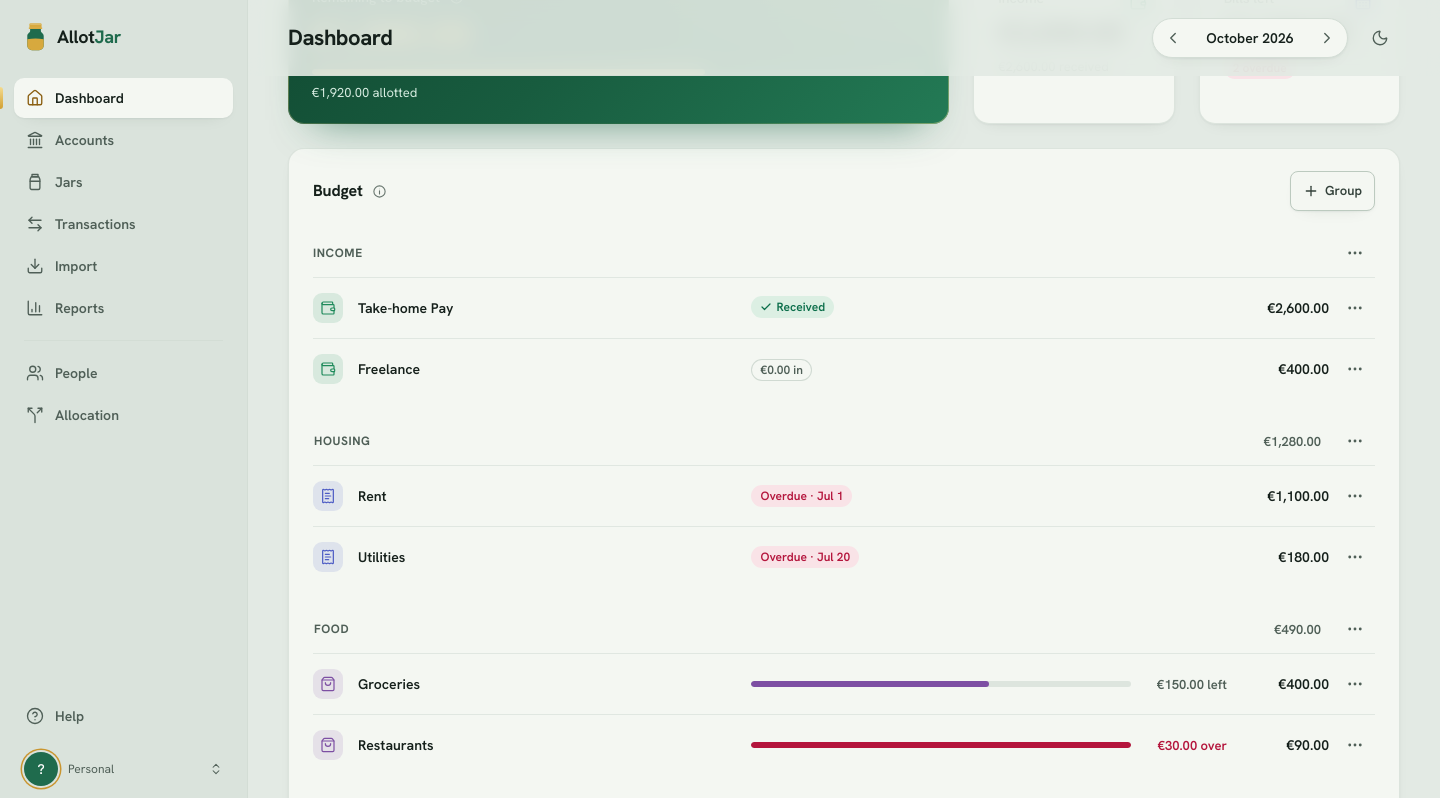
it: DashboardPage — reorder gating, templates & jars shelf › DASH-045: the group menus' Move up / Move down disable at the ends of the expense list
(page scrolled)
Click the button named "Housing group: more actions" at (1355, 441), box [1335,421,1375,461]
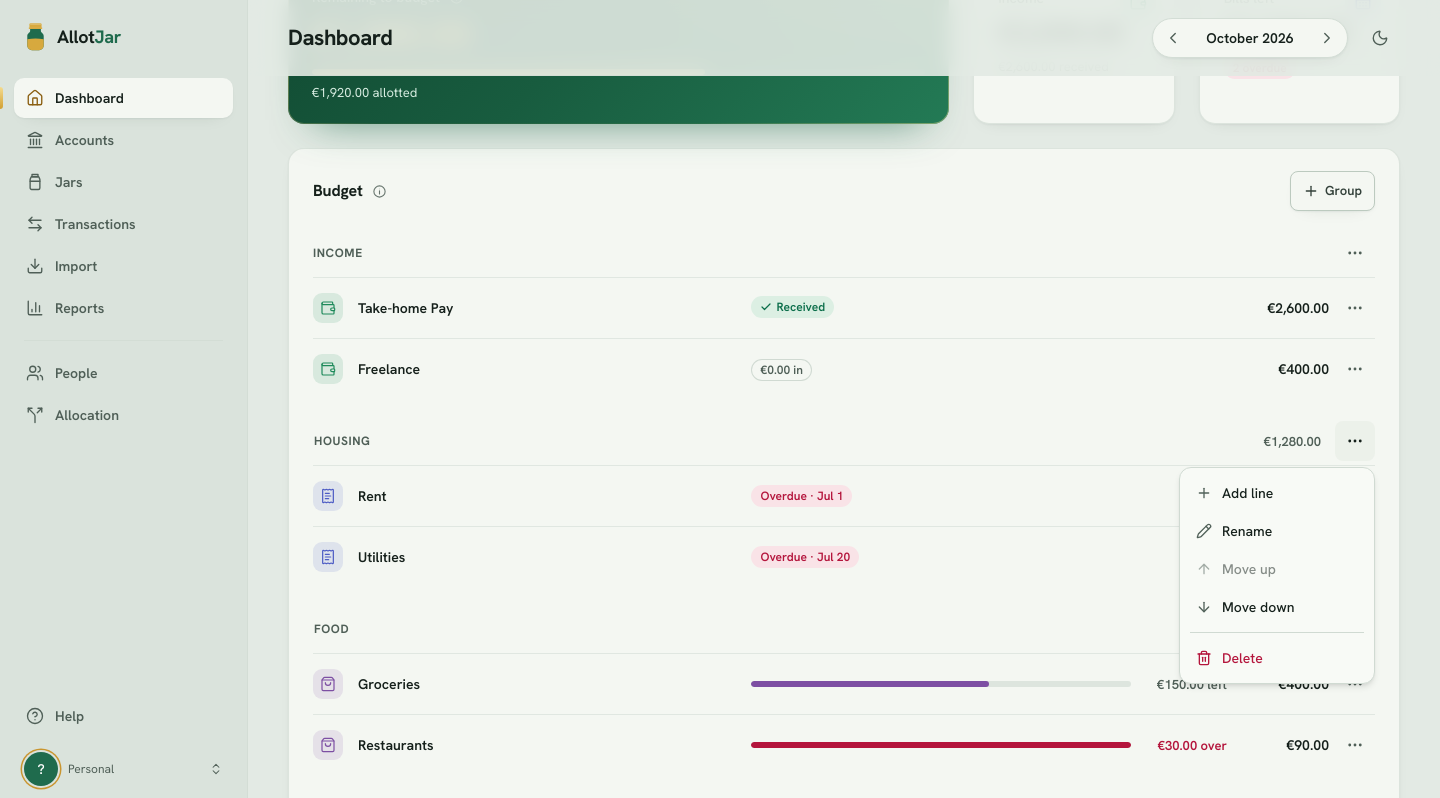
Expected: the menu is shown, [1179,467,1375,684]
Press Escape
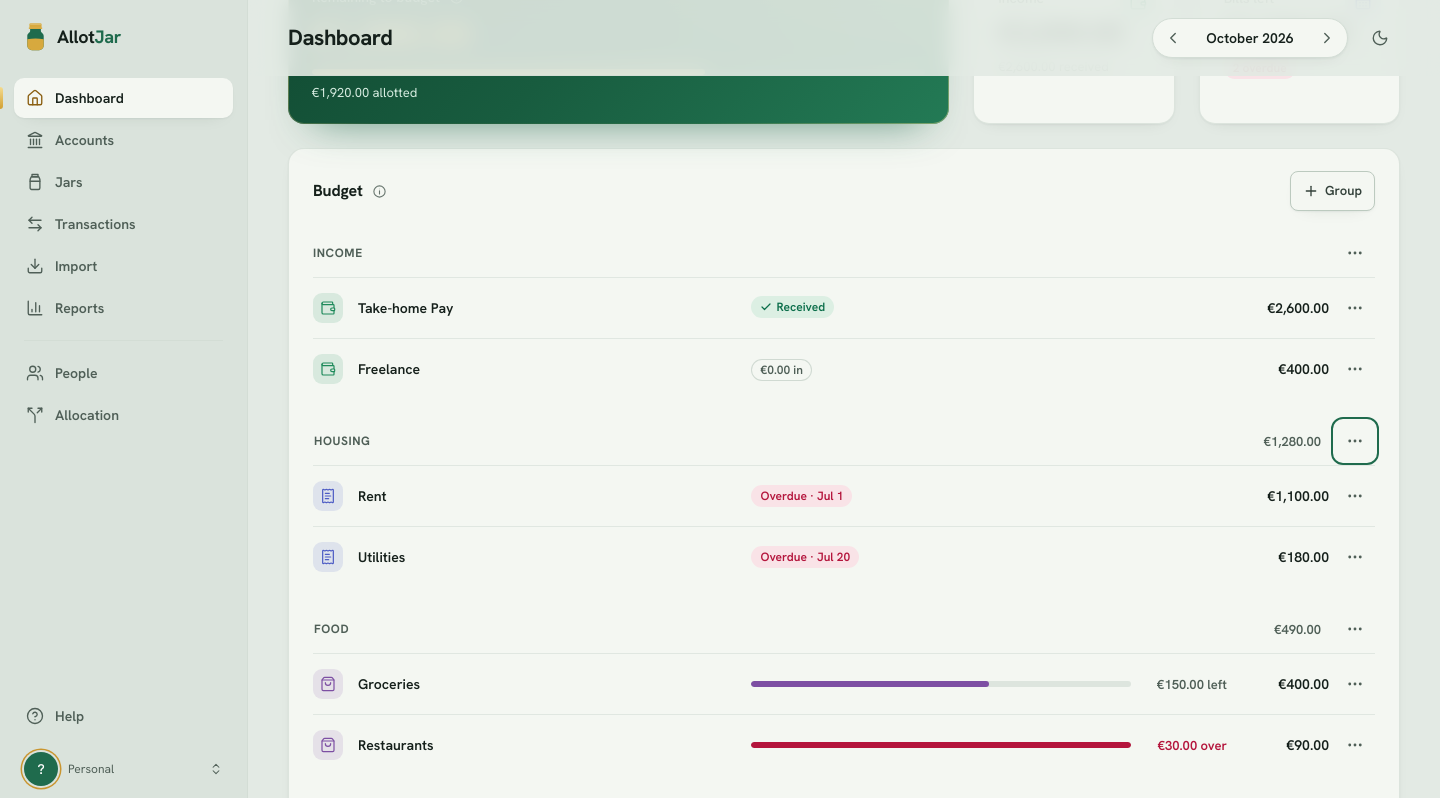
Click the button named "Food group: more actions" at (1355, 629), box [1335,609,1375,649]
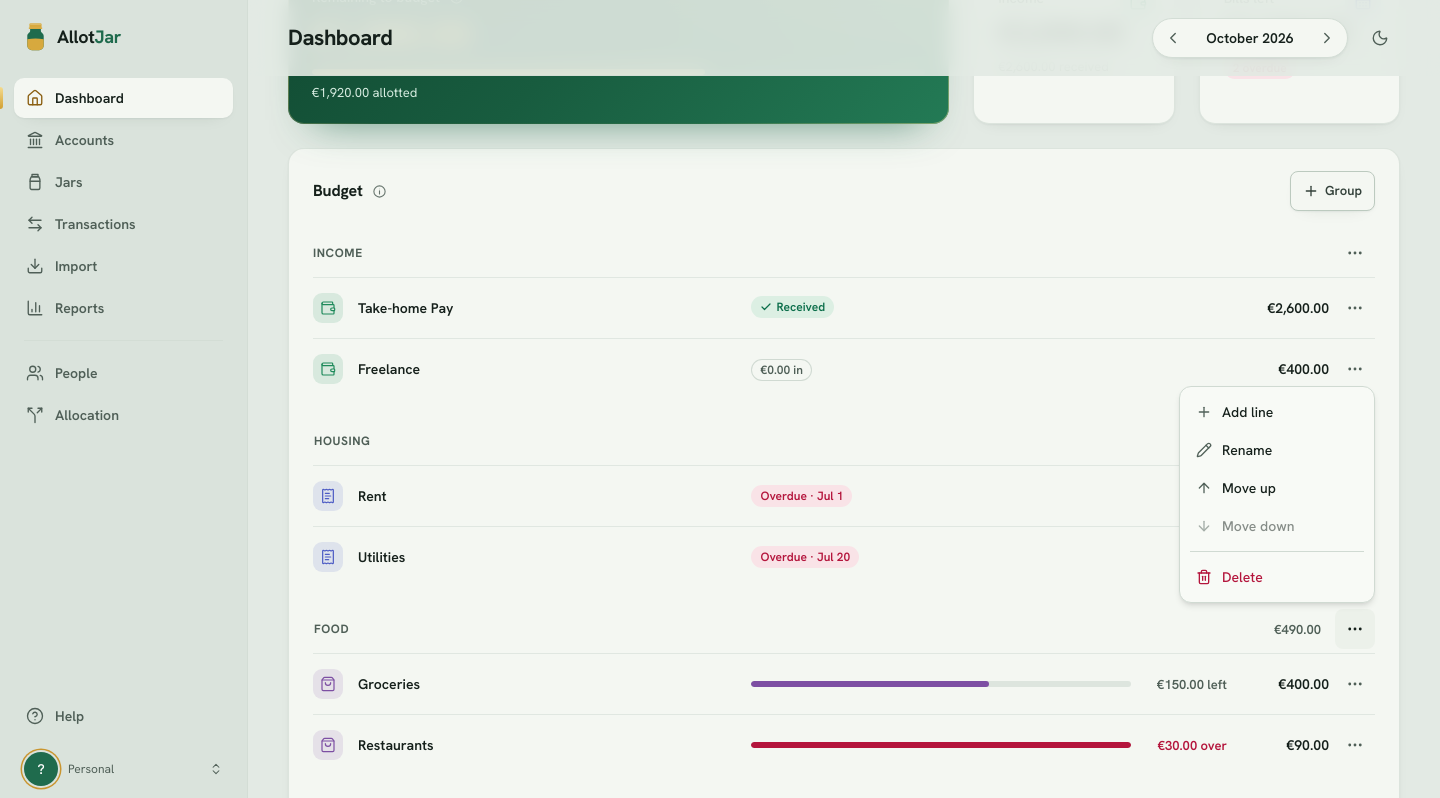
Expected: the menu is shown, [1179,386,1375,603]
